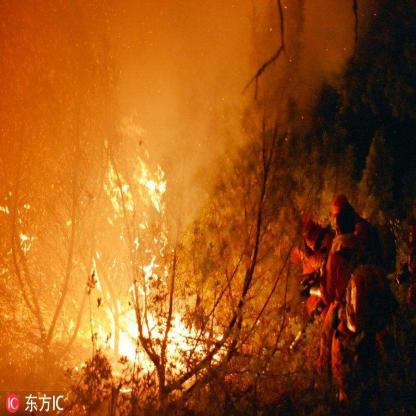fire: (87, 150, 224, 378)
